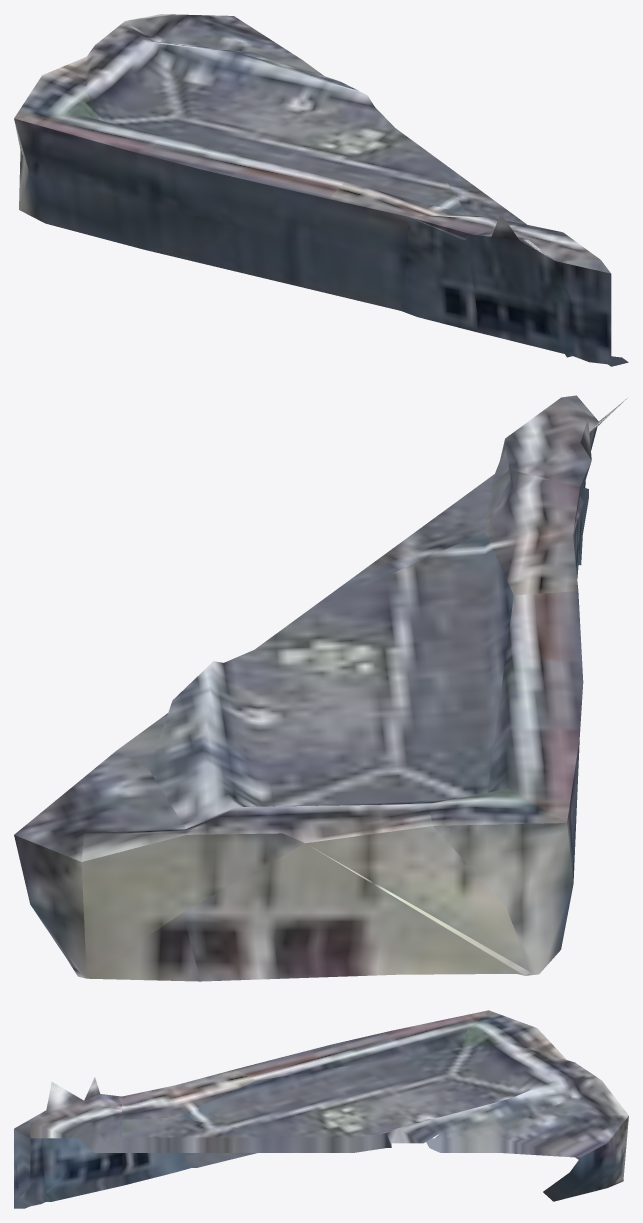
3 renders of one model, top to bottom at view 1: azimuth 30°, elevation 25°; view 2: azimuth 150°, elevation 25°; view 3: azimuth 270°, elevation 25°, orthographic. The views are drawn at different scales.
Parts seen in each view (by area): view 1: 30436272704361636561_0; view 2: 30436272704361636561_0; view 3: 30436272704361636561_0.
Boxes of the visible parts, x1,y1,x2,y2 form: 30436272704361636561_0: [14, 14, 628, 366]; 30436272704361636561_0: [14, 395, 627, 981]; 30436272704361636561_0: [14, 1010, 628, 1208].
Size of the model in its own units: 8.13 by 3.24 by 17.59.
1 material, 1 textured.
